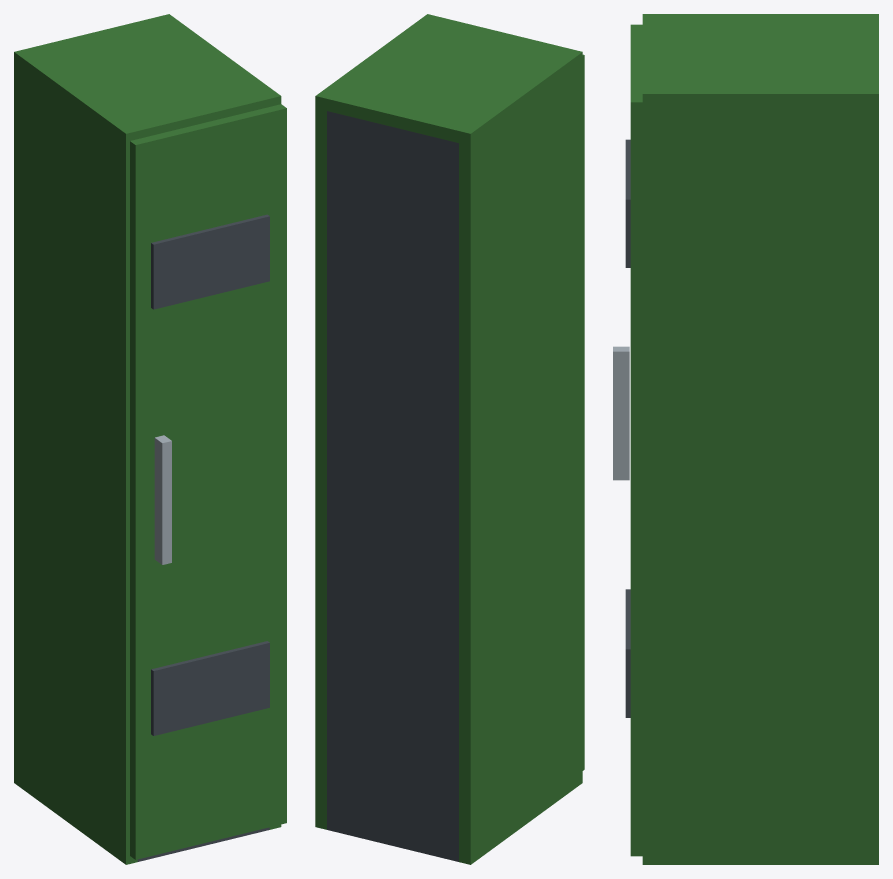
Rendered from GI_Locker_01.glb.
3 views of the same model, side by side, from view 1: azimuth 30°, elevation 25°; view 2: azimuth 150°, elevation 25°; view 3: azimuth 270°, elevation 25° (orthographic). The views are drawn at different scales.
Visible parts, largest first — view 1: Door, GI_Locker_01; view 2: GI_Locker_01, Door; view 3: GI_Locker_01, Door.
Boxes of the visible parts, <box> form: Door: <box>130,104,286,859</box>; GI_Locker_01: <box>14,14,281,864</box>; GI_Locker_01: <box>315,14,582,864</box>; Door: <box>582,54,584,770</box>; GI_Locker_01: <box>642,14,878,864</box>; Door: <box>613,24,642,856</box>.
Bounding box in the file's own units: 0.4 × 1.8 × 0.5625.
Materials: 1 (1 with a texture image).
